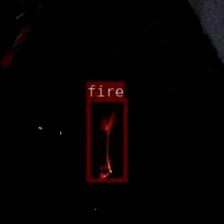fire: (85, 97, 127, 182)
